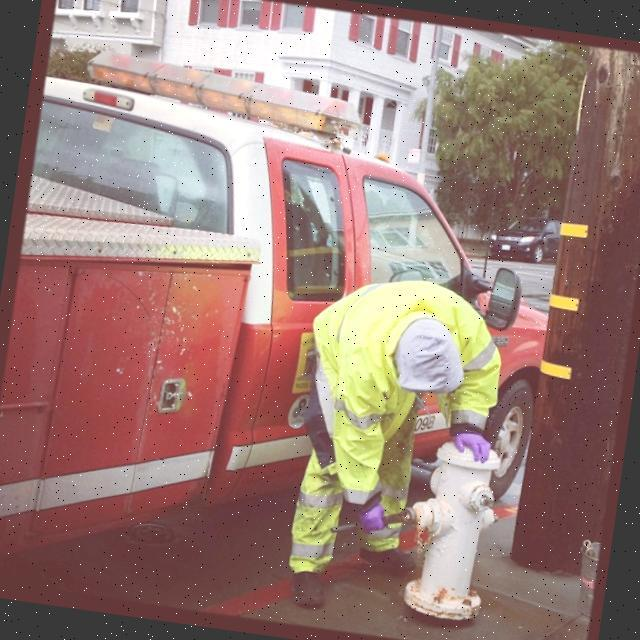fire_hydrant: (384, 434, 504, 630)
